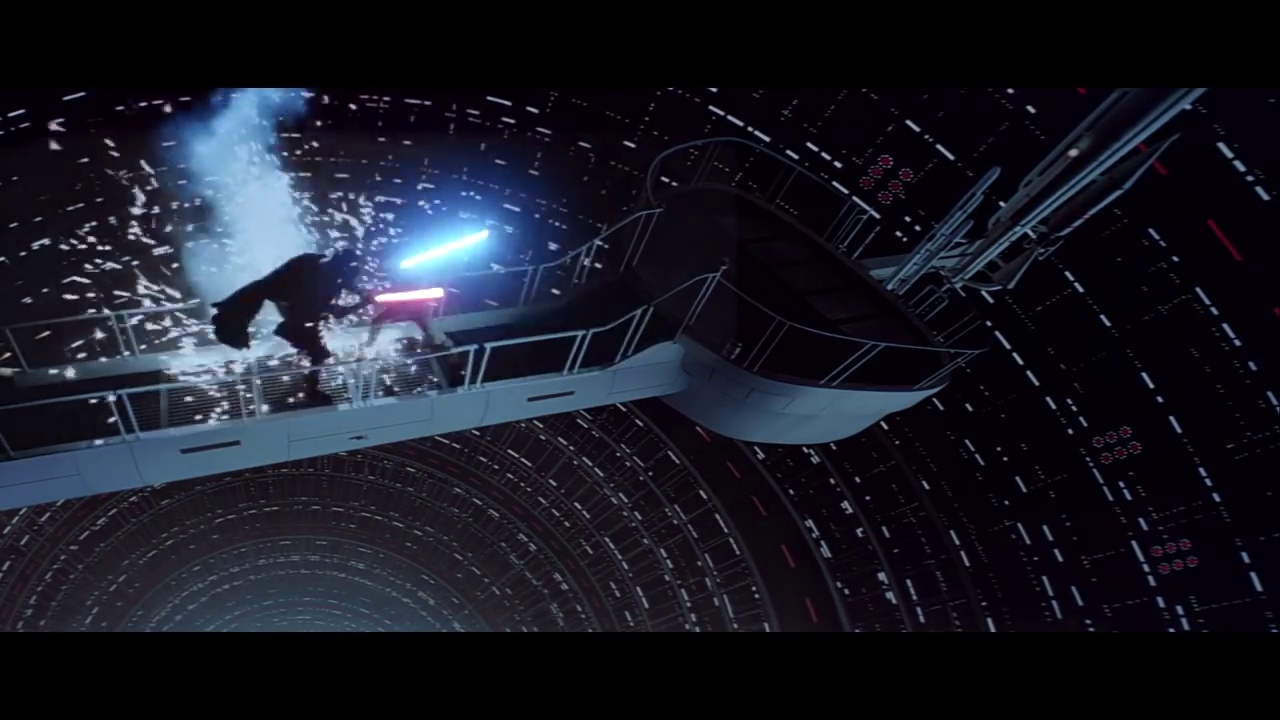lightsaber: (388, 223, 498, 280), (359, 286, 454, 304)
